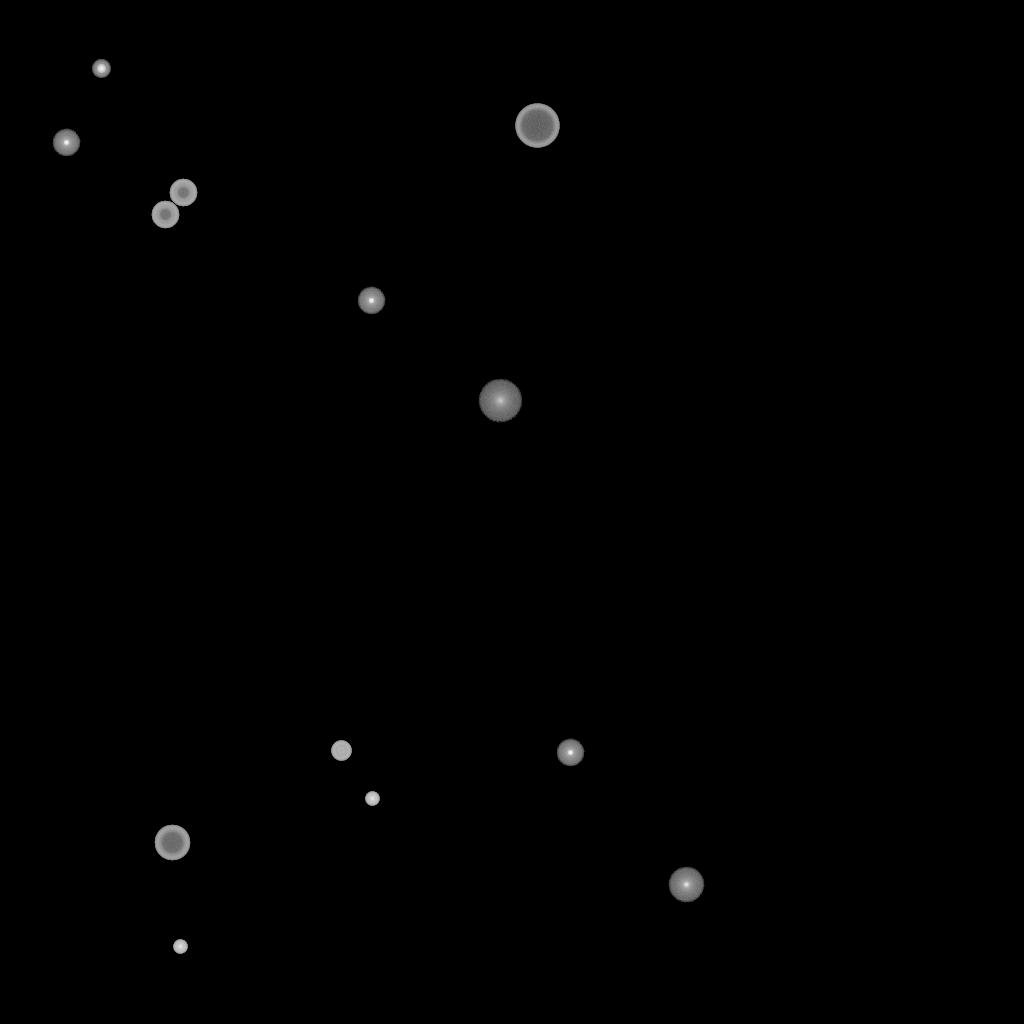depth:-10: (52, 129, 80, 157), (357, 287, 385, 315), (556, 739, 584, 767)
depth:-20: (92, 60, 110, 78)
depth:-30: (365, 792, 379, 806), (173, 940, 187, 954)
depth:-40: (331, 741, 351, 761)
depth:-50: (151, 201, 179, 229), (169, 179, 197, 207)
depth:-60: (154, 825, 190, 861)
depth:-70: (515, 104, 559, 148)
depth:0: (668, 867, 704, 903)
depth:10: (478, 379, 522, 423)
